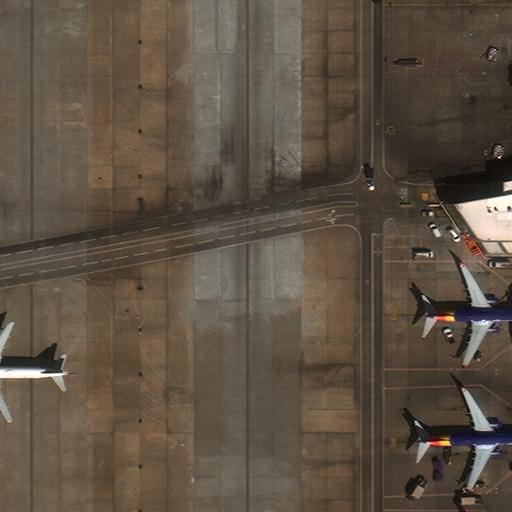Medium Civil Transport: (417, 388, 512, 489), (424, 264, 512, 365), (0, 323, 71, 422)
